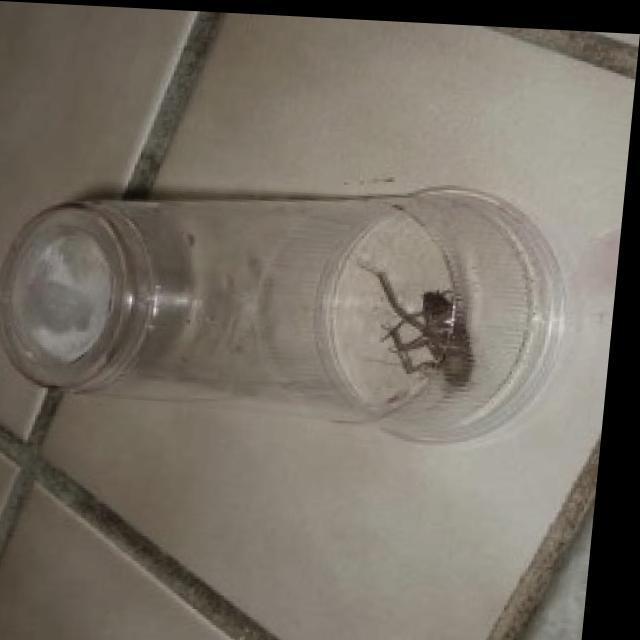cockroach: (353, 253, 480, 399)
